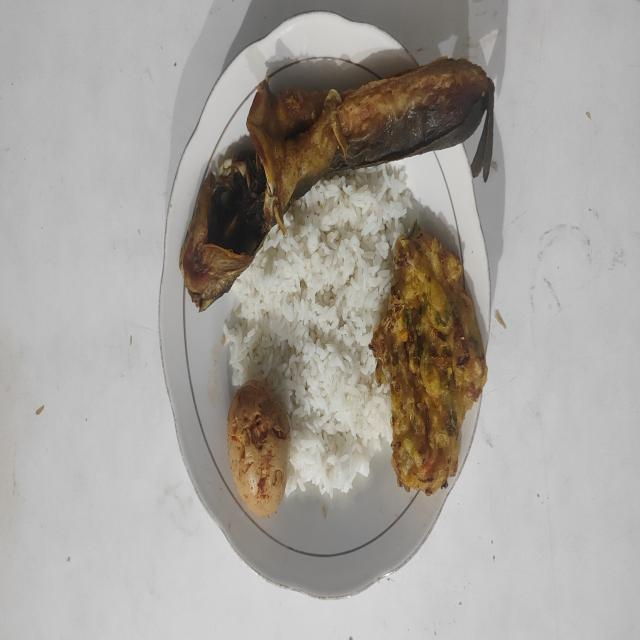nasi_putih: (223, 164, 414, 498)
